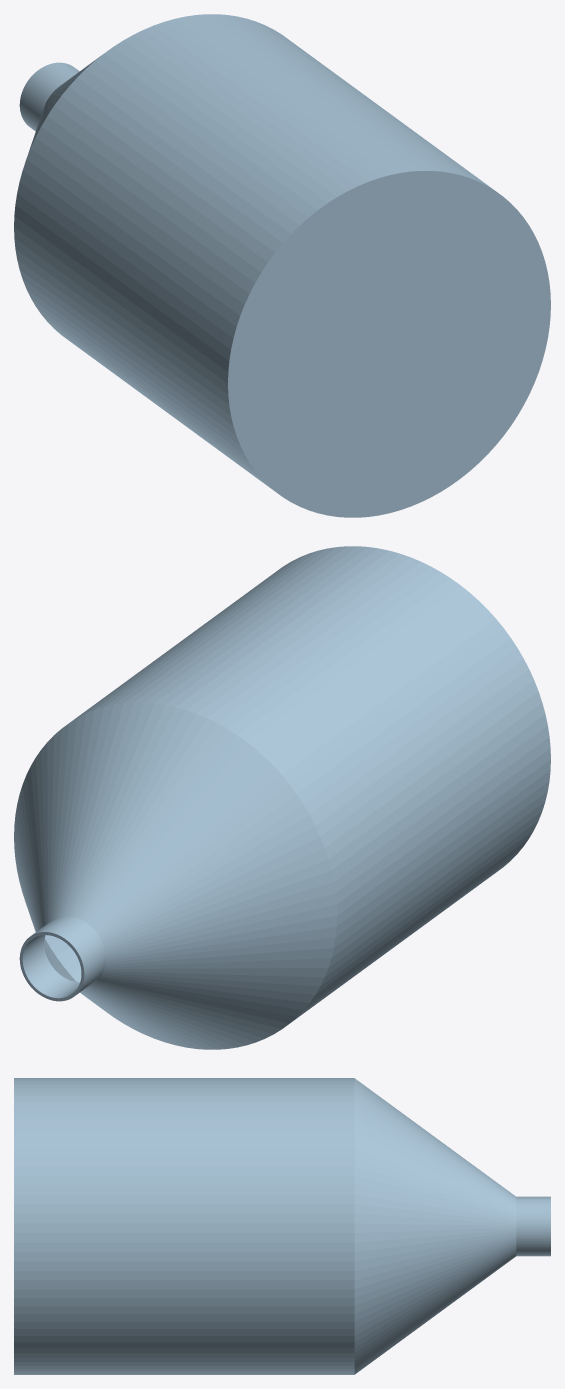
The model's file is referencia_bidon.glb.
3 views of the same model, one above another, from view 1: azimuth 30°, elevation 25°; view 2: azimuth 150°, elevation 25°; view 3: azimuth 270°, elevation 25° (orthographic). The views are drawn at different scales.
Parts seen in each view (by area): view 1: world; view 2: world; view 3: world.
Boxes of the visible parts, x1=… form: world: x1=14, y1=14, x2=550, y2=517; world: x1=14, y1=546, x2=550, y2=1049; world: x1=14, y1=1078, x2=550, y2=1374.
Bounding box in the file's own units: 275 × 275 × 498.
